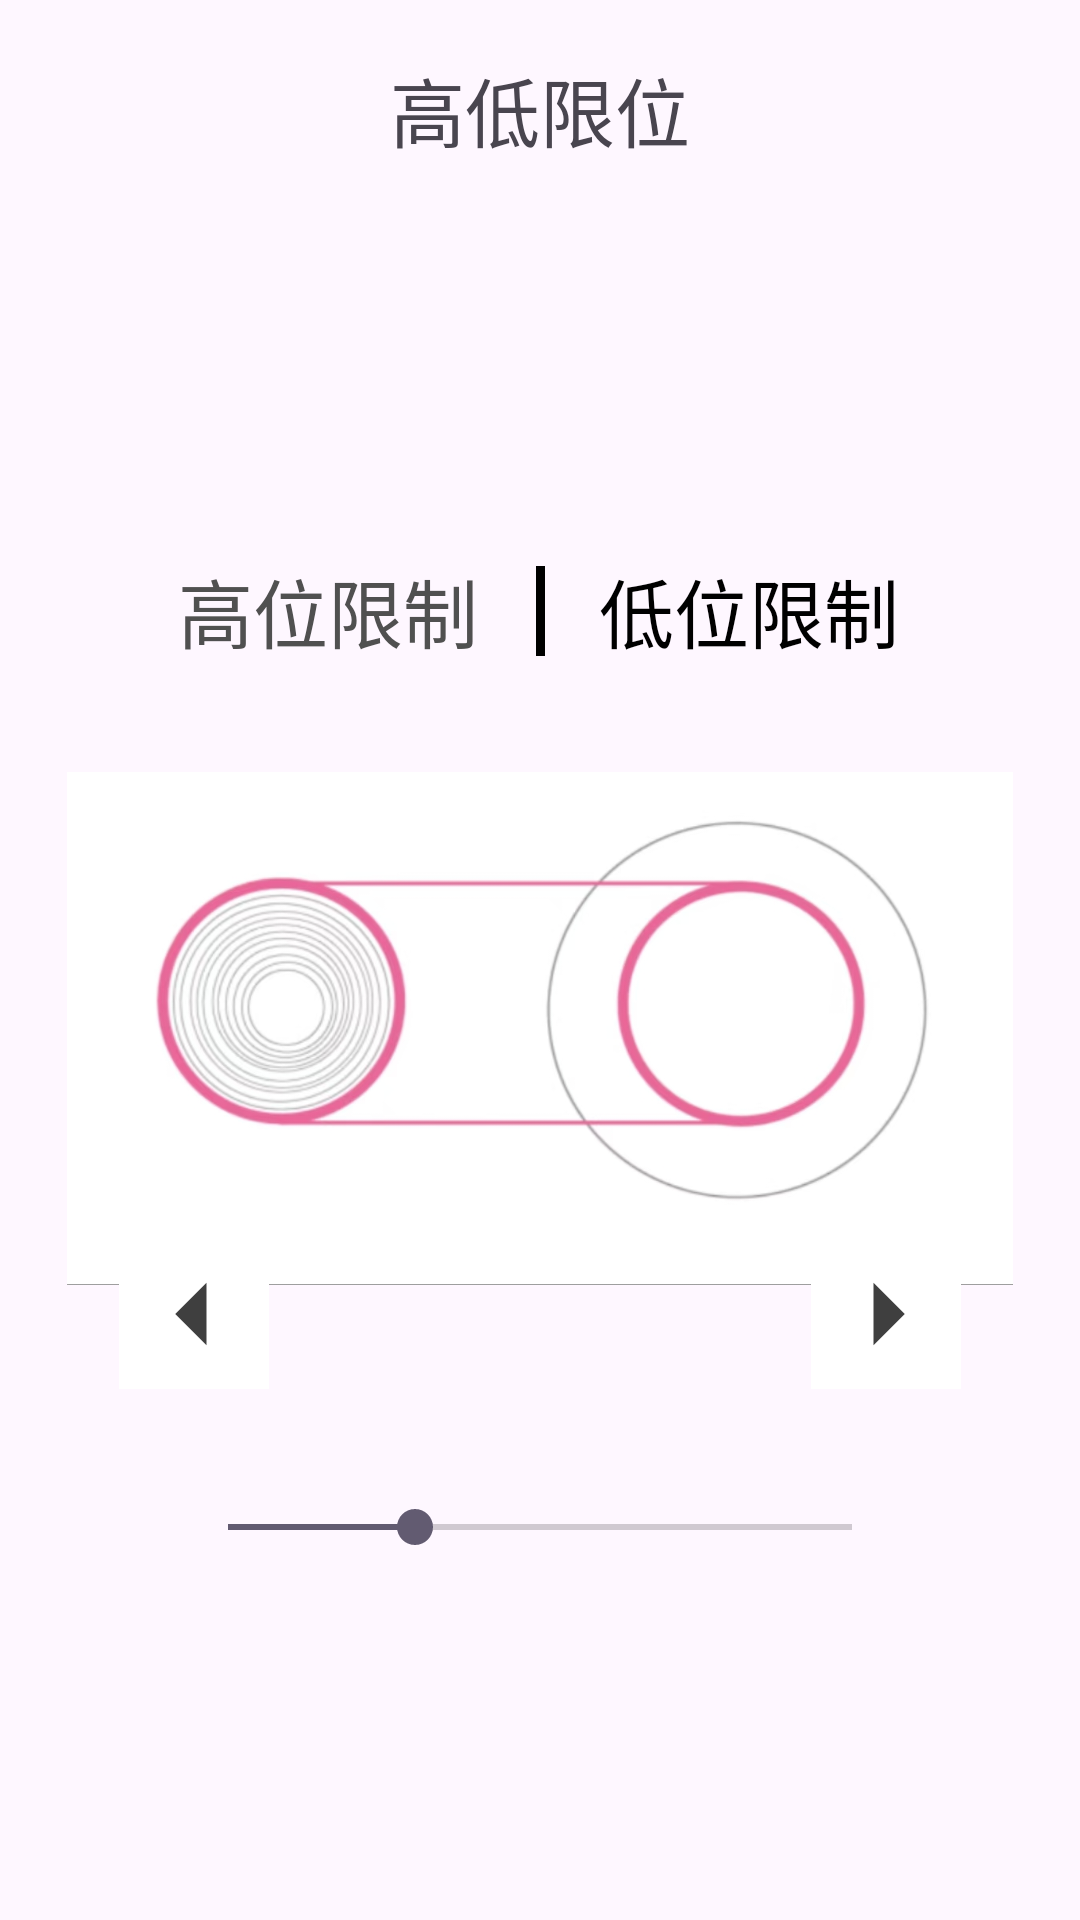

Icon bounding boxes for this 1080 × 1920 phone screenshot, format (x1,y1,x2,y2):
decrease: (175,1283,207,1345)
